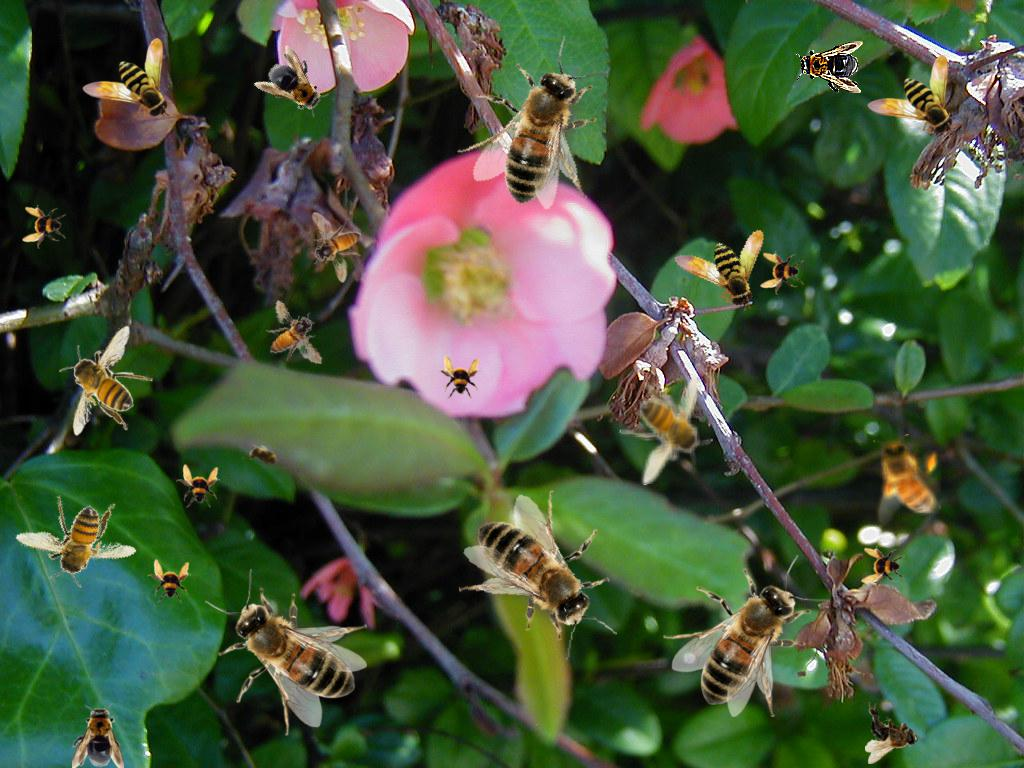Bee: (434, 27, 641, 229), (451, 480, 634, 666), (663, 555, 830, 717), (205, 569, 367, 736), (6, 477, 143, 603), (665, 209, 773, 313), (59, 325, 153, 436), (619, 375, 713, 486), (253, 43, 339, 127), (867, 55, 955, 137), (82, 38, 170, 120), (873, 434, 941, 527), (260, 293, 324, 374), (311, 212, 361, 283), (795, 41, 863, 93), (72, 703, 124, 768), (865, 702, 918, 764), (861, 546, 905, 590), (760, 251, 804, 295), (22, 205, 66, 249), (437, 355, 481, 399), (147, 559, 191, 603), (176, 464, 220, 508), (241, 438, 287, 476)
